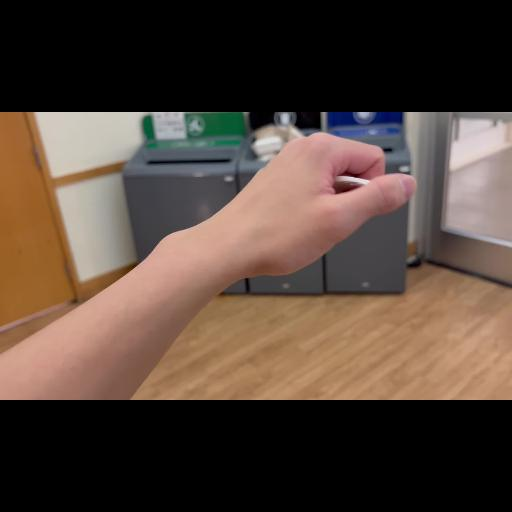utensil: (254, 128, 402, 202)
